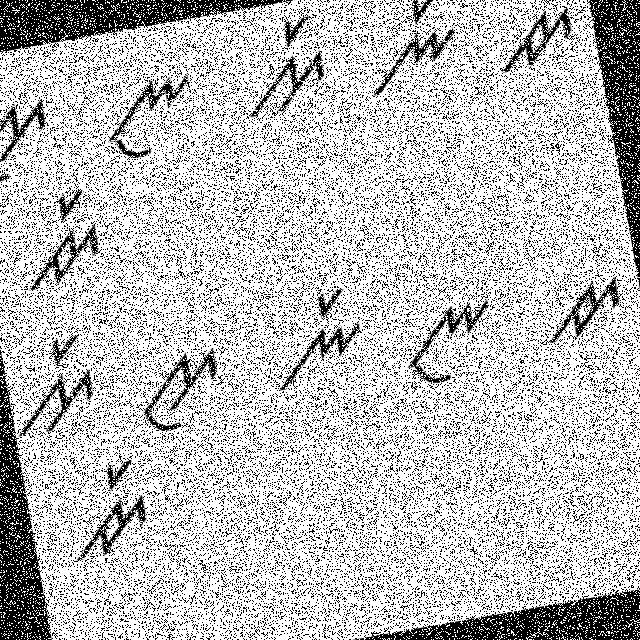ja: (529, 260, 631, 352), (482, 0, 583, 84)
jar: (45, 444, 162, 574), (12, 185, 112, 298)
nyar: (248, 276, 374, 398), (352, 0, 477, 107)
nyaw: (394, 288, 507, 398), (94, 66, 203, 166)
sar: (0, 316, 114, 446), (228, 6, 338, 125)
saw: (122, 338, 231, 439), (0, 86, 67, 189)
